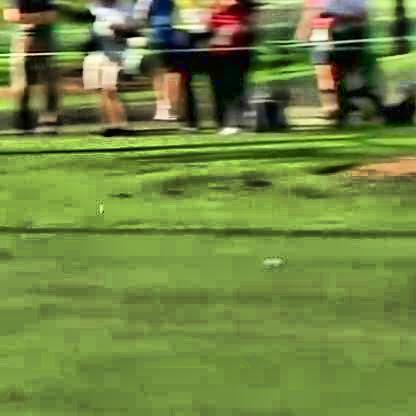golfball: (96, 197, 101, 208)
